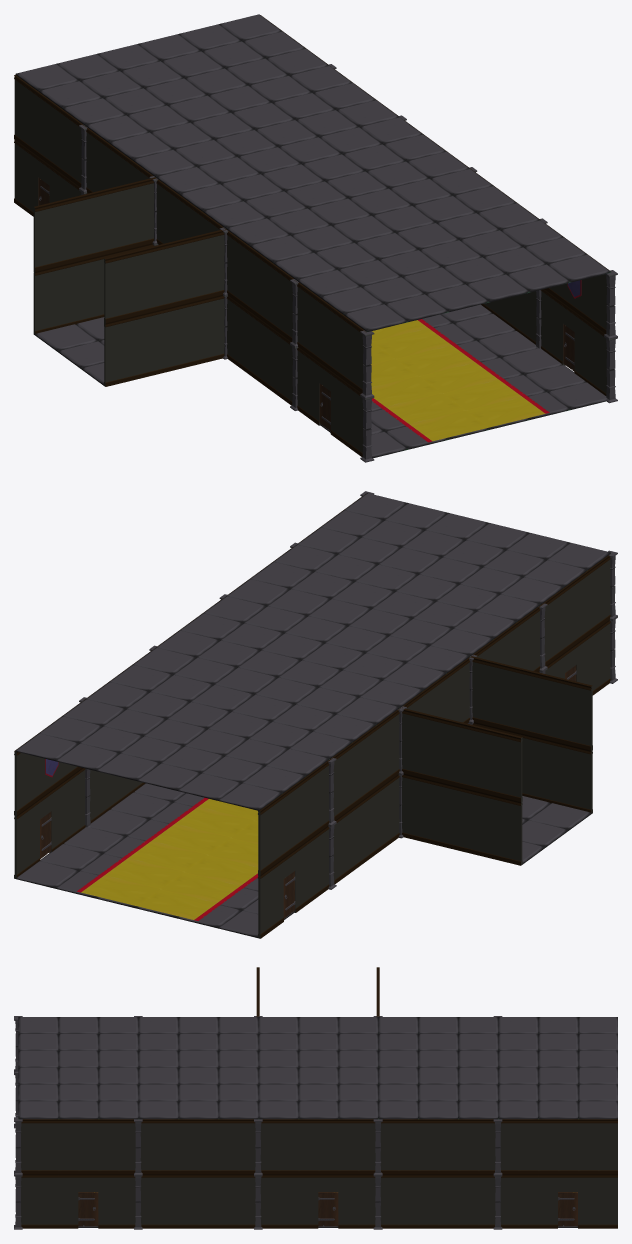
Rendered from CastleModule3.fbx.
3 renders of one model, top to bottom at view 1: azimuth 30°, elevation 25°; view 2: azimuth 150°, elevation 25°; view 3: azimuth 270°, elevation 25°, orthographic. The views are drawn at different scales.
Visible parts, largest first — view 1: HalfWallHall.340, CarpetHall.071, CarpetHall.062, CarpetHall.064, CarpetHall.065, CarpetHall.069, HalfWallHall.351, CarpetHall.063, CarpetHall.067, HalfWallHall.334, HalfWallHall.345, HalfWallHall.337 (+160 smaller); view 2: HalfWallHall.340, CarpetHall.086, CarpetHall.087, HalfWallHall.351, CarpetHall.084, CarpetHall.090, CarpetHall.088, CarpetHall.089, CarpetHall.082, HalfWallHall.334, CarpetHall.085, HalfWallHall.347 (+160 smaller); view 3: WallDoorHall.012, WallDoorHall.014, WallDoorHall.016, HalfWallHall.301, HalfWallHall.302, HalfWallHall.305, HalfWallHall.306, HalfWallHall.307, HalfWallHall.308, HalfWallHall.311, HalfWallHall.312, HalfWallHall.313 (+142 smaller).
Part boxes in pixels (x1=…): HalfWallHall.340: x1=33, y1=202, x2=55, y2=271; CarpetHall.071: x1=372, y1=327, x2=455, y2=358; CarpetHall.062: x1=405, y1=410, x2=488, y2=442; CarpetHall.064: x1=381, y1=393, x2=465, y2=424; CarpetHall.065: x1=442, y1=378, x2=525, y2=410; CarpetHall.069: x1=396, y1=344, x2=479, y2=375; HalfWallHall.351: x1=104, y1=253, x2=125, y2=323; CarpetHall.063: x1=466, y1=395, x2=549, y2=427; CarpetHall.067: x1=419, y1=361, x2=502, y2=393; HalfWallHall.334: x1=33, y1=267, x2=55, y2=334; HalfWallHall.345: x1=104, y1=318, x2=125, y2=386; HalfWallHall.337: x1=95, y1=187, x2=116, y2=256; HalfWallHall.340: x1=500, y1=732, x2=522, y2=801; CarpetHall.086: x1=123, y1=840, x2=207, y2=871; CarpetHall.087: x1=161, y1=872, x2=244, y2=903; HalfWallHall.351: x1=571, y1=680, x2=592, y2=750; CarpetHall.084: x1=147, y1=823, x2=230, y2=854; CarpetHall.090: x1=77, y1=874, x2=160, y2=906; CarpetHall.088: x1=100, y1=857, x2=183, y2=888; CarpetHall.089: x1=138, y1=889, x2=221, y2=920; CarpetHall.082: x1=170, y1=806, x2=254, y2=837; HalfWallHall.334: x1=500, y1=797, x2=522, y2=865; CarpetHall.085: x1=185, y1=855, x2=258, y2=886; HalfWallHall.347: x1=489, y1=661, x2=511, y2=730; WallDoorHall.012: x1=58, y1=1174, x2=98, y2=1228; WallDoorHall.014: x1=298, y1=1174, x2=338, y2=1228; WallDoorHall.016: x1=538, y1=1174, x2=577, y2=1228; HalfWallHall.301: x1=38, y1=1119, x2=58, y2=1174; HalfWallHall.302: x1=98, y1=1119, x2=118, y2=1174; HalfWallHall.305: x1=158, y1=1119, x2=178, y2=1174; HalfWallHall.306: x1=178, y1=1119, x2=198, y2=1174; HalfWallHall.307: x1=198, y1=1119, x2=218, y2=1174; HalfWallHall.308: x1=218, y1=1119, x2=238, y2=1174; HalfWallHall.311: x1=278, y1=1119, x2=298, y2=1174; HalfWallHall.312: x1=298, y1=1119, x2=318, y2=1174; HalfWallHall.313: x1=318, y1=1119, x2=338, y2=1174.
Bounding box in the file's own units: 1822 × 610 × 3022.
